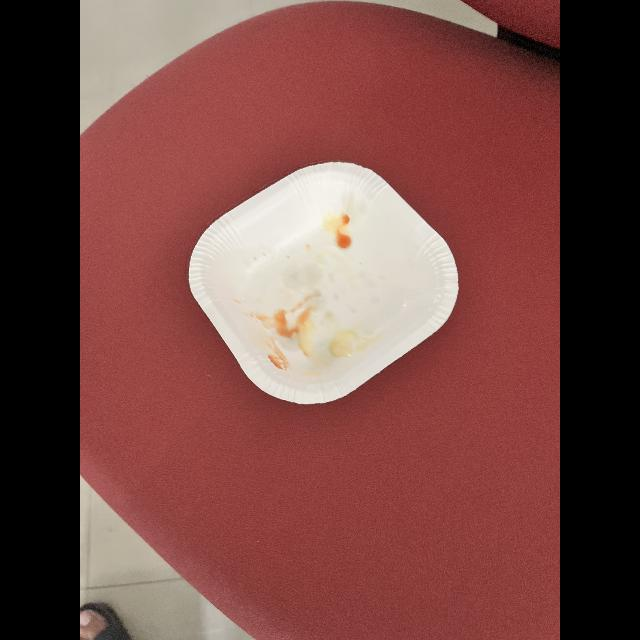cardboard_bowl: (178, 154, 462, 412)
